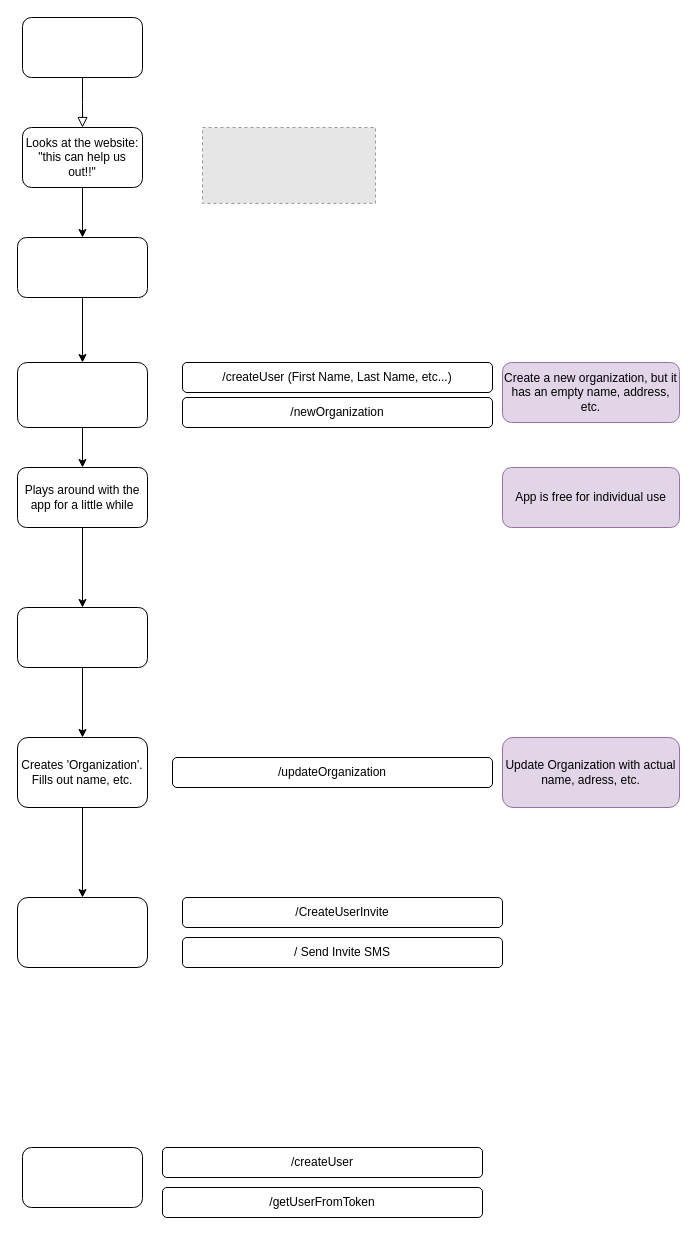
Some shapes in this 697 by 1235 pixel diagram are drawn without their labels. Grey dashed boxes stand in for pictures. Here are the shapes that lost their labels. From the top down, the box of each, then its label:
(22, 16, 142, 78): Pastor hears about this app to streamline visitation
(16, 236, 148, 298): Clicks call to action (The ad site needs a call to action)
(16, 362, 148, 428): Sets up an account
(16, 606, 148, 668): Decides to add users.
(16, 896, 148, 968): Adds users and sends invitation link
(22, 1146, 142, 1208): Users Recieve Text Message and sign in
